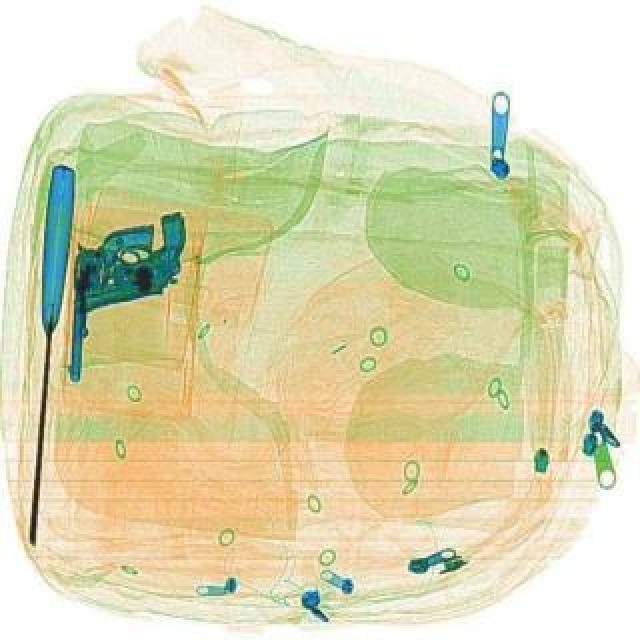gun: (60, 208, 200, 308), (68, 216, 152, 380)
knife: (14, 162, 76, 540)
